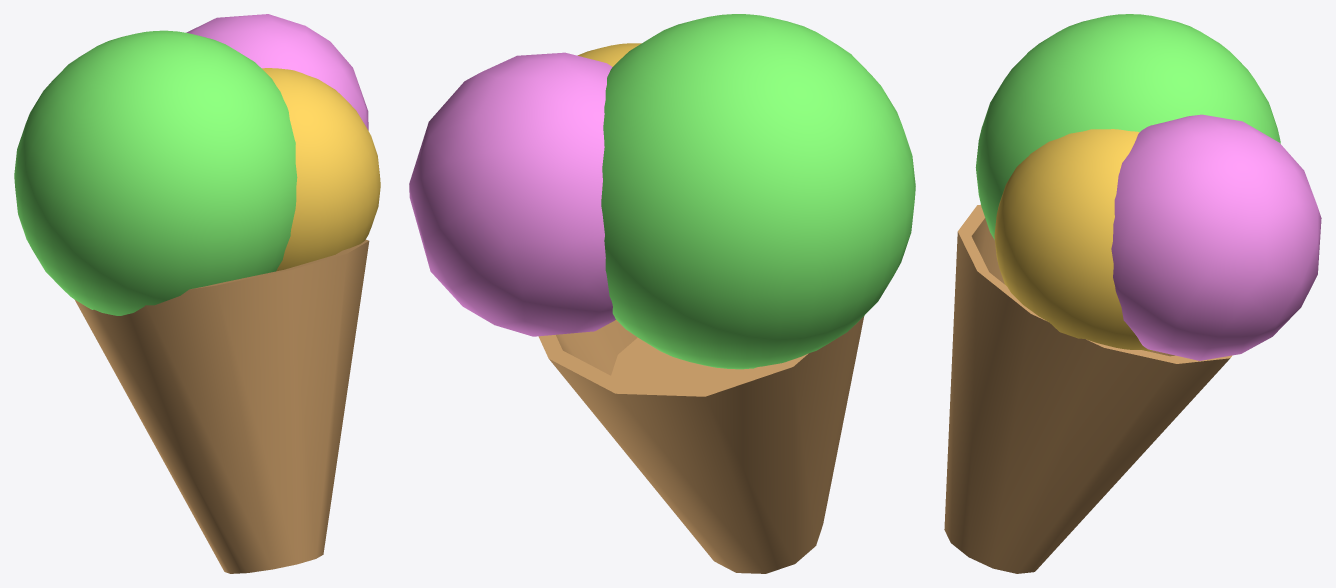
The model's file is IceCream1.fbx.
3 views of the same model, side by side, from view 1: azimuth 30°, elevation 25°; view 2: azimuth 150°, elevation 25°; view 3: azimuth 270°, elevation 25° (orthographic). The views are drawn at different scales.
Parts seen in each view (by area): view 1: Cylinder.002; view 2: Cylinder.002; view 3: Cylinder.002.
Part boxes in pixels (<box>): Cylinder.002: <box>14,14,380,573</box>; Cylinder.002: <box>409,14,915,573</box>; Cylinder.002: <box>944,14,1321,573</box>.
Size of the model in its own units: 43.86 by 58.75 by 39.16.
